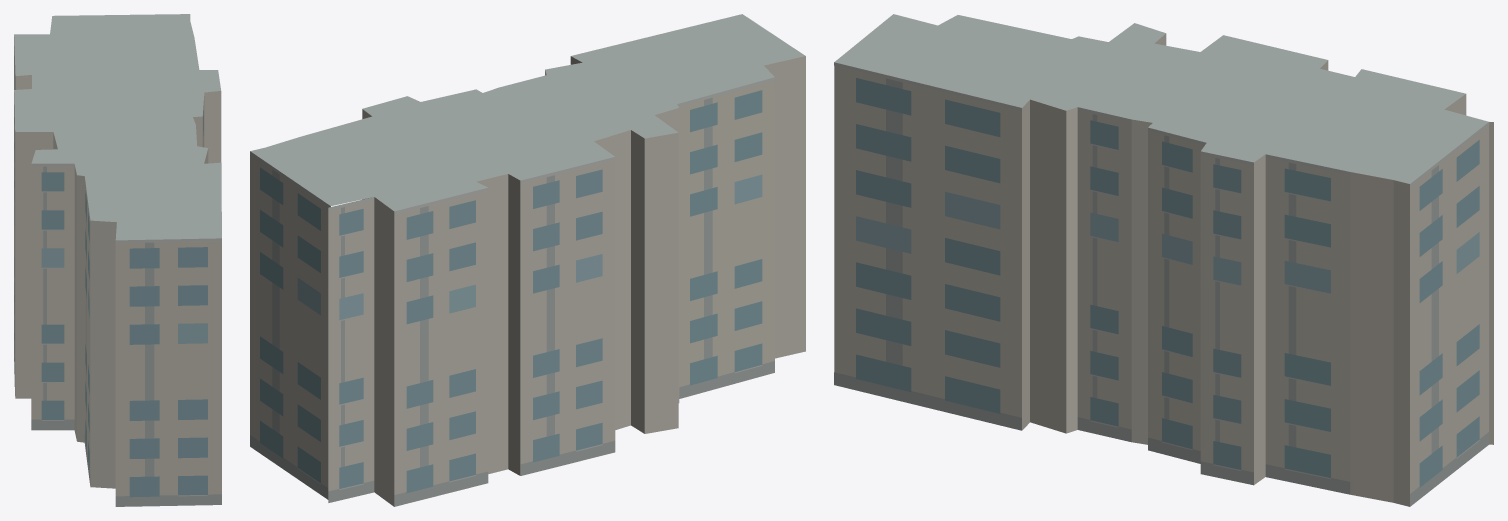
Rendered from survey-upis-32888462.glb.
3 renders of one model, left to right at view 1: azimuth 30°, elevation 25°; view 2: azimuth 150°, elevation 25°; view 3: azimuth 270°, elevation 25°, orthographic. The views are drawn at different scales.
Visible parts, largest first — view 1: survey-upis-32888462.tmp; view 2: survey-upis-32888462.tmp; view 3: survey-upis-32888462.tmp.
Boxes of the visible parts, box(x1,y1,x2,y2) form: survey-upis-32888462.tmp: box(14, 14, 221, 506); survey-upis-32888462.tmp: box(250, 14, 805, 506); survey-upis-32888462.tmp: box(834, 14, 1493, 506).
Size of the model in its own units: 25.33 by 22.4 by 41.49.
